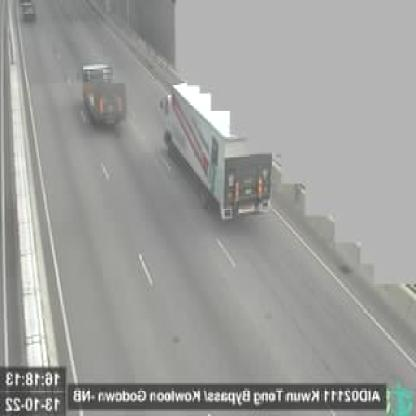Car: (21, 1, 36, 22)
Truck: (162, 80, 268, 218), (81, 61, 127, 126)
